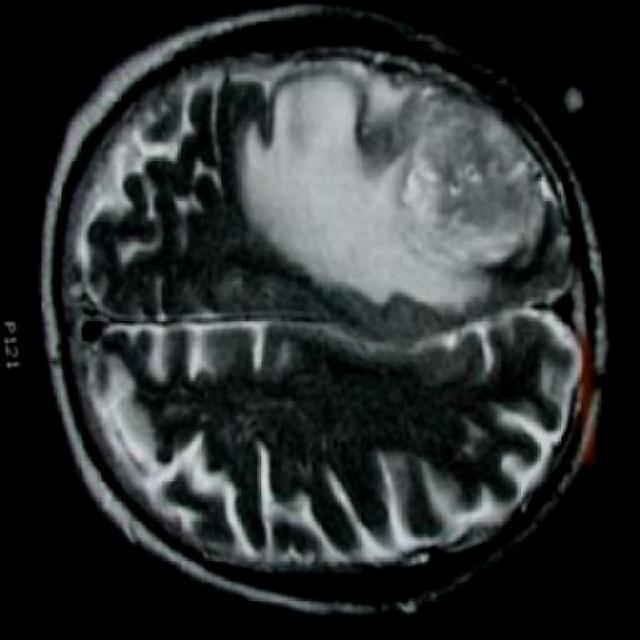Brain-Tumor: (233, 49, 582, 323)
